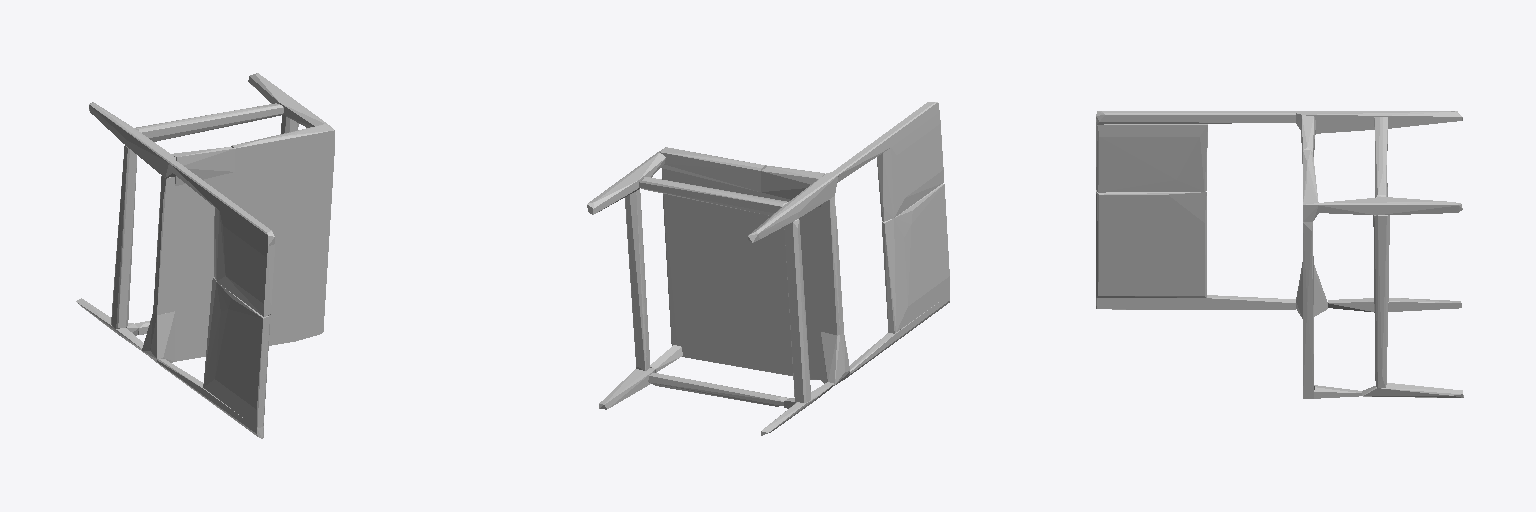
3 views of the same model, side by side, from view 1: azimuth 30°, elevation 25°; view 2: azimuth 150°, elevation 25°; view 3: azimuth 270°, elevation 25° (orthographic).
Parts seen in each view (by area): view 1: convex_0, convex_3, convex_4, convex_9, convex_18, convex_12, convex_7, convex_11, convex_5, convex_17, convex_1, convex_16 (+2 smaller); view 2: convex_0, convex_3, convex_4, convex_9, convex_14, convex_12, convex_18, convex_7, convex_11, convex_5, convex_6, convex_17 (+5 smaller); view 3: convex_3, convex_4, convex_5, convex_11, convex_2, convex_14, convex_16, convex_0, convex_13, convex_10, convex_7, convex_18 (+1 smaller).
Part boxes in pixels (left/top/right/bottom): convex_0: left=175, top=148, right=334, bottom=361; convex_3: left=203, top=277, right=269, bottom=427; convex_4: left=214, top=208, right=274, bottom=316; convex_9: left=111, top=145, right=136, bottom=328; convex_18: left=231, top=124, right=334, bottom=171; convex_12: left=153, top=176, right=174, bottom=314; convex_7: left=135, top=103, right=283, bottom=141; convex_11: left=89, top=102, right=175, bottom=177; convex_5: left=169, top=160, right=274, bottom=245; convex_17: left=172, top=147, right=234, bottom=185; convex_1: left=142, top=311, right=174, bottom=362; convex_16: left=248, top=73, right=326, bottom=127; convex_0: left=662, top=168, right=820, bottom=379; convex_3: left=882, top=184, right=949, bottom=333; convex_4: left=877, top=112, right=943, bottom=221; convex_9: left=784, top=219, right=810, bottom=402; convex_14: left=625, top=189, right=649, bottom=370; convex_12: left=821, top=196, right=843, bottom=335; convex_18: left=657, top=147, right=765, bottom=191; convex_7: left=639, top=177, right=787, bottom=215; convex_11: left=748, top=172, right=838, bottom=242; convex_5: left=833, top=102, right=939, bottom=182; convex_6: left=648, top=373, right=788, bottom=406; convex_17: left=761, top=165, right=824, bottom=206; convex_3: left=1096, top=190, right=1206, bottom=297; convex_4: left=1096, top=122, right=1207, bottom=192; convex_5: left=1096, top=111, right=1295, bottom=124; convex_11: left=1296, top=111, right=1462, bottom=133; convex_2: left=1096, top=295, right=1295, bottom=309; convex_14: left=1373, top=215, right=1389, bottom=387; convex_16: left=1319, top=197, right=1462, bottom=215; convex_0: left=1303, top=222, right=1313, bottom=398; convex_13: left=1328, top=298, right=1461, bottom=312; convex_10: left=1362, top=383, right=1463, bottom=397; convex_7: left=1374, top=117, right=1387, bottom=197; convex_18: left=1303, top=150, right=1318, bottom=221.
Size of the model in its own units: 0.444 by 0.498 by 0.7729.